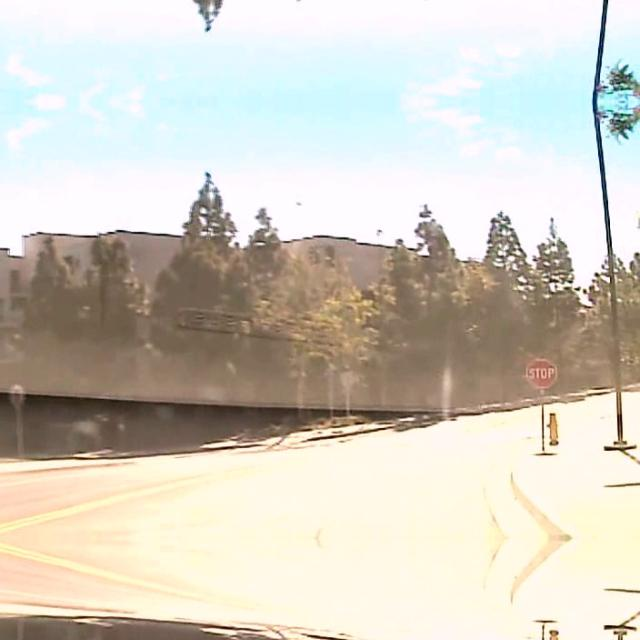stop: (526, 356, 556, 386)
